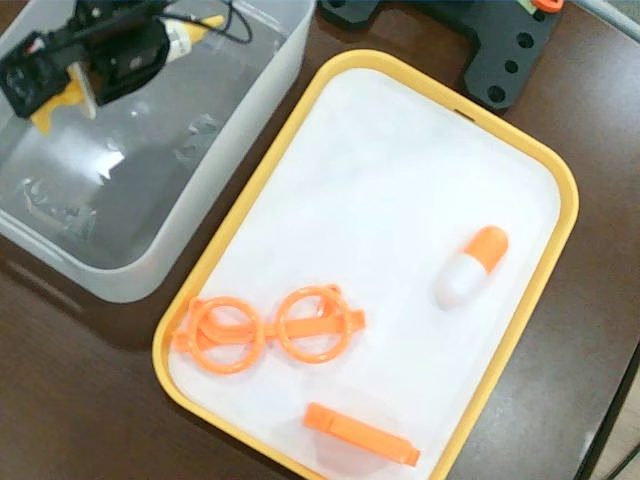pill: (441, 225, 509, 307)
